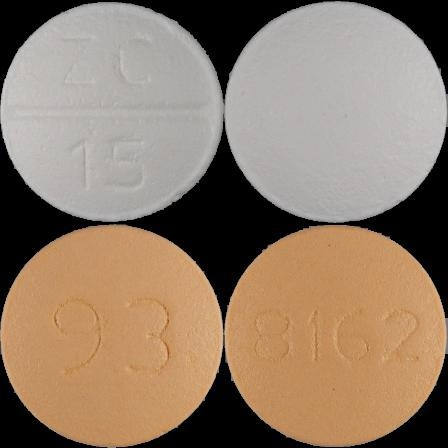61786-787: (0, 0, 224, 224)
